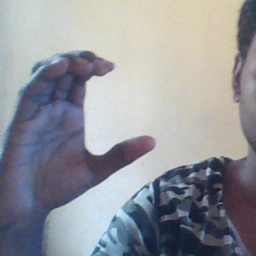C: (43, 44, 162, 188)
